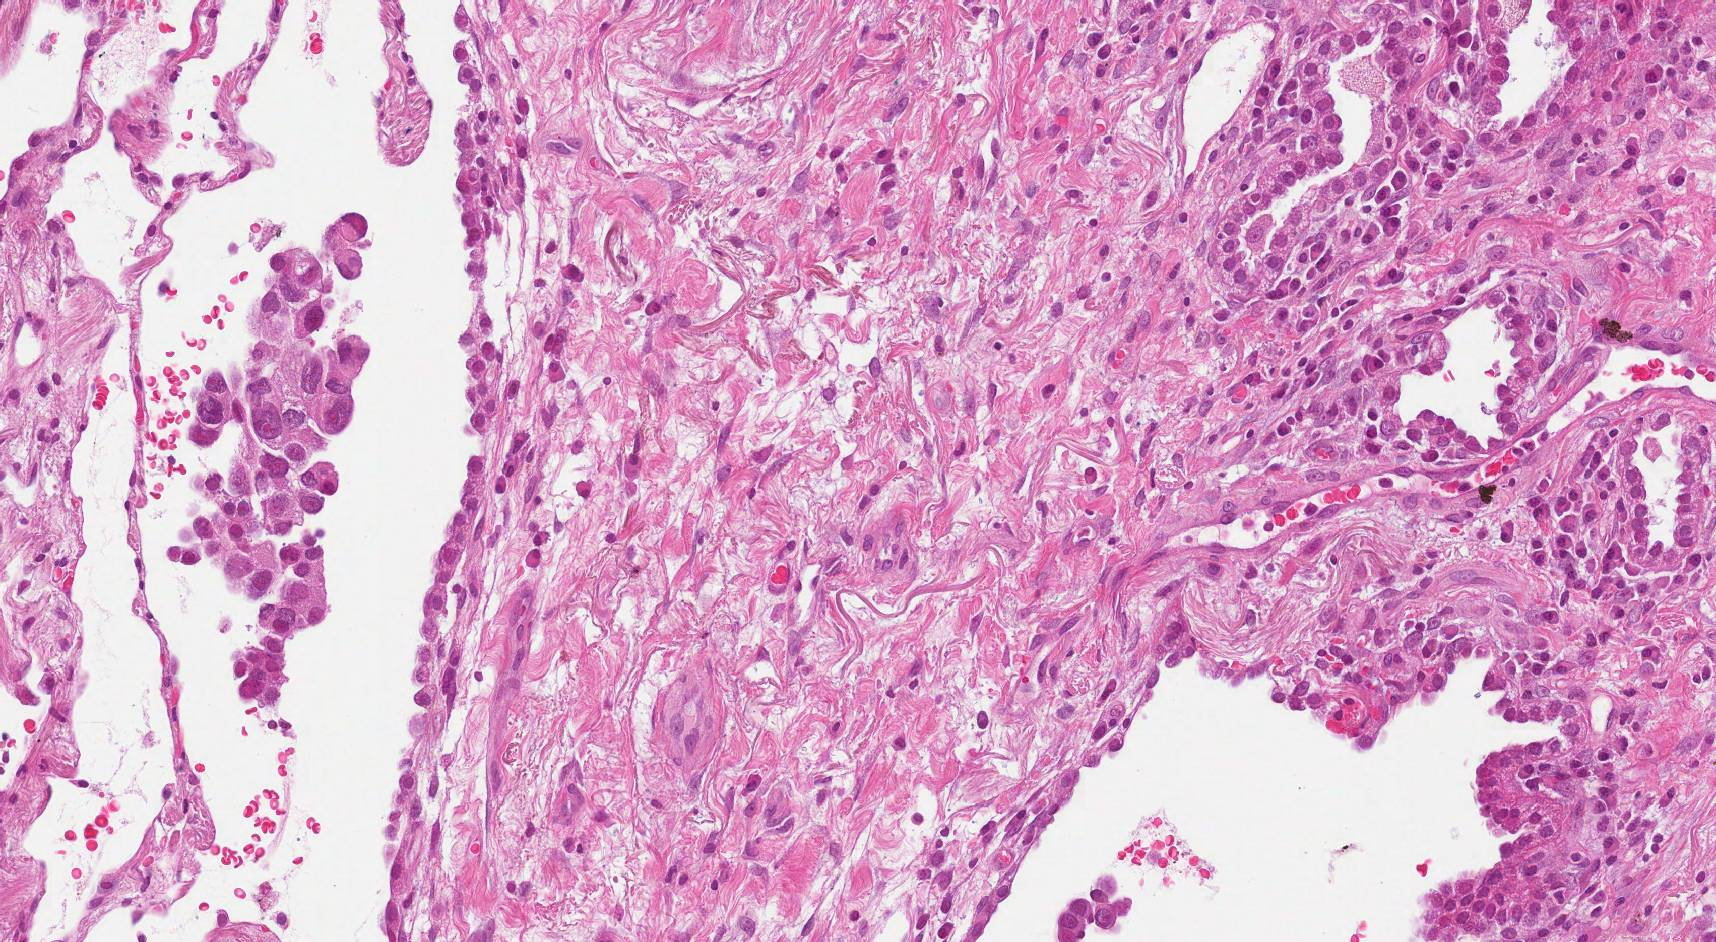stas: (165, 209, 376, 710), (1053, 874, 1133, 942)
